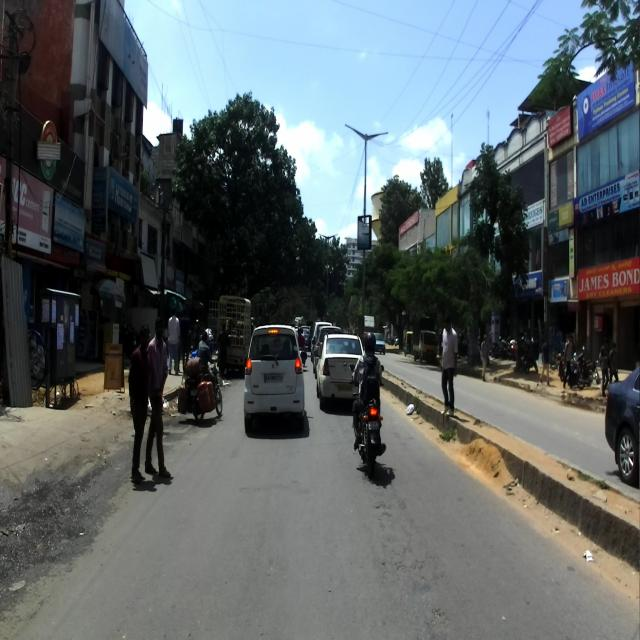car: (243, 322, 306, 434)
motorcycle: (349, 360, 386, 480), (176, 346, 222, 426)
